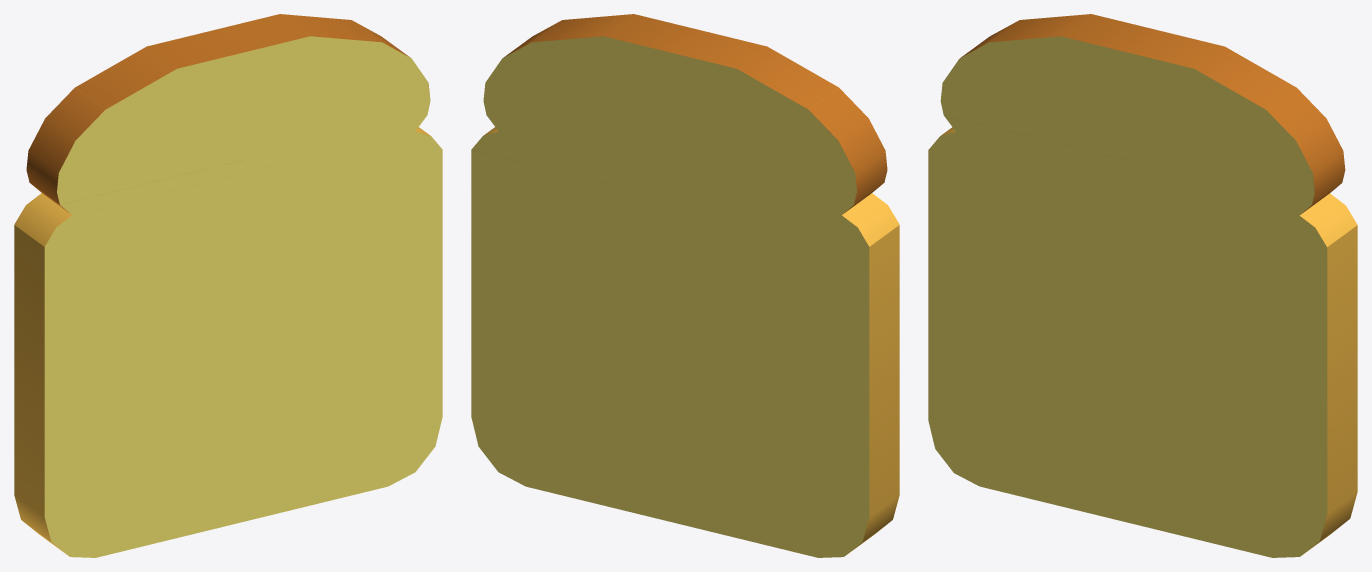
The model's file is bread.fbx.
3 renders of one model, left to right at view 1: azimuth 30°, elevation 25°; view 2: azimuth 150°, elevation 25°; view 3: azimuth 330°, elevation 25°, orthographic.
Visible parts, largest first — view 1: #bread; view 2: #bread; view 3: #bread.
Boxes of the visible parts, <box> form: #bread: <box>14,14,442,557</box>; #bread: <box>471,14,899,557</box>; #bread: <box>928,14,1357,557</box>.
Size of the model in its own units: 195 by 219 by 25.75.
1 material, 1 textured.
